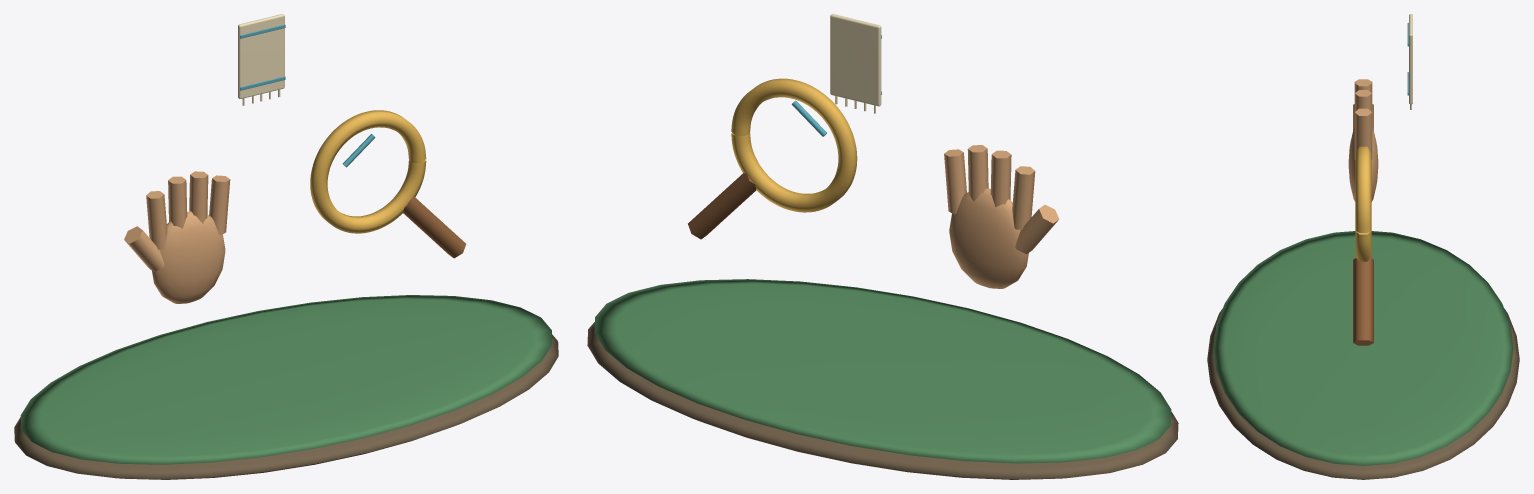
The model's file is complete-third-hand-wipes-inspection.glb.
3 views of the same model, side by side, from view 1: azimuth 30°, elevation 25°; view 2: azimuth 150°, elevation 25°; view 3: azimuth 270°, elevation 25° (orthographic). The views are drawn at different scales.
Parts seen in each view (by area): view 1: complete-third-hand-wipes-inspection_surface_01, complete-third-hand-wipes-inspection_surface_02, complete-third-hand-wipes-inspection_surface_00, complete-third-hand-wipes-inspection_surface_03, complete-third-hand-wipes-inspection_surface_06, complete-third-hand-wipes-inspection_surface_04, complete-third-hand-wipes-inspection_surface_05; view 2: complete-third-hand-wipes-inspection_surface_01, complete-third-hand-wipes-inspection_surface_02, complete-third-hand-wipes-inspection_surface_00, complete-third-hand-wipes-inspection_surface_03, complete-third-hand-wipes-inspection_surface_06, complete-third-hand-wipes-inspection_surface_04; view 3: complete-third-hand-wipes-inspection_surface_01, complete-third-hand-wipes-inspection_surface_00, complete-third-hand-wipes-inspection_surface_02, complete-third-hand-wipes-inspection_surface_03, complete-third-hand-wipes-inspection_surface_04, complete-third-hand-wipes-inspection_surface_06.
Boxes of the visible parts, bbox=[...] form: complete-third-hand-wipes-inspection_surface_01: bbox=[20, 295, 552, 464]; complete-third-hand-wipes-inspection_surface_02: bbox=[124, 171, 230, 303]; complete-third-hand-wipes-inspection_surface_00: bbox=[14, 334, 558, 479]; complete-third-hand-wipes-inspection_surface_03: bbox=[310, 110, 426, 233]; complete-third-hand-wipes-inspection_surface_06: bbox=[238, 14, 284, 105]; complete-third-hand-wipes-inspection_surface_04: bbox=[403, 197, 465, 258]; complete-third-hand-wipes-inspection_surface_05: bbox=[240, 24, 375, 167]; complete-third-hand-wipes-inspection_surface_01: bbox=[594, 279, 1171, 463]; complete-third-hand-wipes-inspection_surface_02: bbox=[944, 145, 1059, 288]; complete-third-hand-wipes-inspection_surface_00: bbox=[587, 322, 1178, 479]; complete-third-hand-wipes-inspection_surface_03: bbox=[731, 78, 857, 212]; complete-third-hand-wipes-inspection_surface_06: bbox=[830, 14, 881, 113]; complete-third-hand-wipes-inspection_surface_04: bbox=[688, 173, 756, 239]; complete-third-hand-wipes-inspection_surface_01: bbox=[1213, 231, 1513, 465]; complete-third-hand-wipes-inspection_surface_00: bbox=[1207, 308, 1519, 479]; complete-third-hand-wipes-inspection_surface_02: bbox=[1348, 79, 1378, 201]; complete-third-hand-wipes-inspection_surface_03: bbox=[1355, 146, 1371, 261]; complete-third-hand-wipes-inspection_surface_04: bbox=[1353, 258, 1373, 345]; complete-third-hand-wipes-inspection_surface_06: bbox=[1409, 14, 1412, 109].
Bounding box in the file's own units: 4.56 × 3.09 × 2.5.
